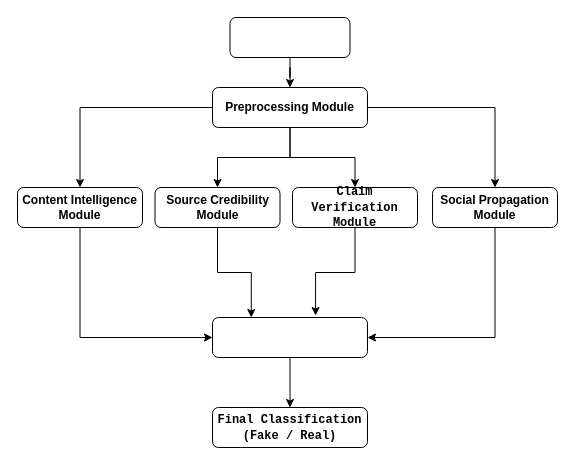
Image size: 575x465. Some labels were removed from this diagram. The centre of each missing label's shape, as x and y in pixels:
"News Article Input" goes at point 289,37.
"Score Aggregation Layer" goes at point 290,337.
